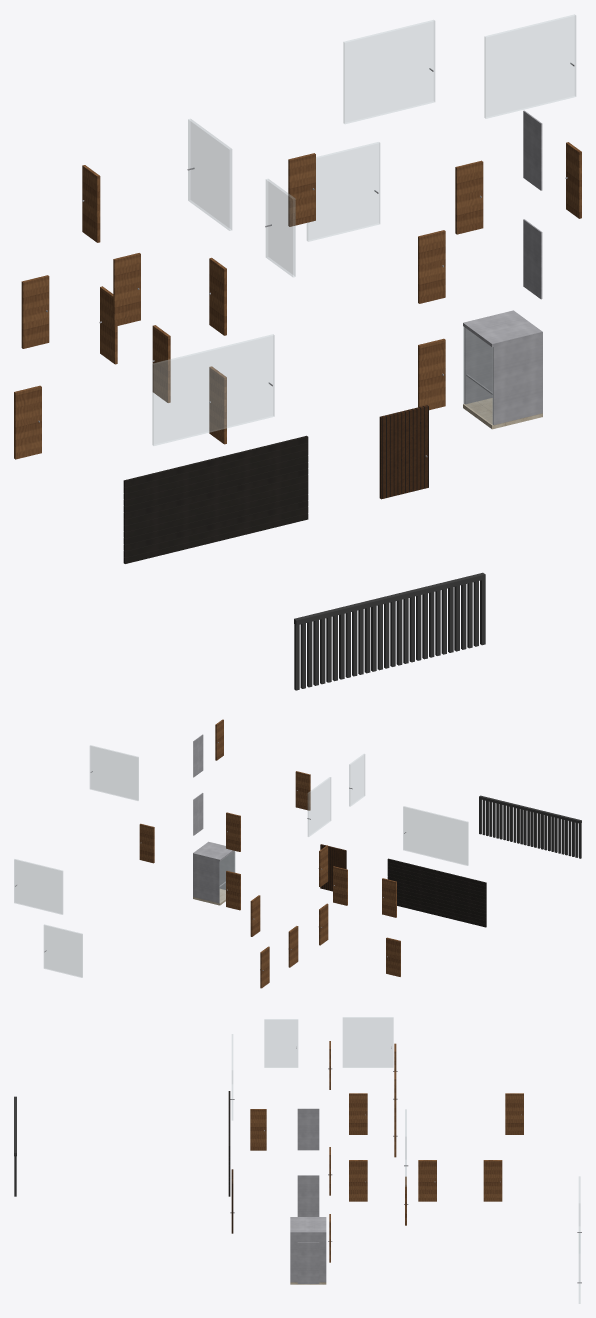
Rendered from LuxuryVilla_Doors.glb.
3 renders of one model, top to bottom at view 1: azimuth 30°, elevation 25°; view 2: azimuth 150°, elevation 25°; view 3: azimuth 270°, elevation 25°, orthographic. The views are drawn at different scales.
Parts seen in each view (by area): view 1: GarageDoor, FrontGate, Door_FrontBalcony, Elevator_Cab, Door_RearBalcony, Door_SkyTerrace, Door_Terrace, Door_Entrance, Door_GymTerrace, Door_MediaTerrace, Door_BedroomB, Door_Wardrobe (+11 smaller); view 2: GarageDoor, FrontGate, Door_FrontBalcony, Door_SkyTerrace, Door_RearBalcony, Elevator_Cab, Door_Terrace, Door_GymTerrace, Door_MediaTerrace, Door_Media, Door_BedroomB, Door_Entrance (+10 smaller); view 3: Door_GymTerrace, Door_MediaTerrace, Elevator_Cab, Door_GuestBedroom, Door_BedroomA, Door_GarageHall, Door_GuestBathroom, Door_Master, Door_PowderRoom, Elevator_Door_F2_L, Elevator_Door_F0_L, Elevator_Door_F1_L (+3 smaller).
Boxes of the visible parts, <box> form: GarageDoor: <box>123,435,308,563</box>; FrontGate: <box>294,572,485,690</box>; Door_FrontBalcony: <box>152,334,274,445</box>; Elevator_Cab: <box>463,310,542,429</box>; Door_RearBalcony: <box>343,20,434,123</box>; Door_SkyTerrace: <box>484,14,575,118</box>; Door_Terrace: <box>307,142,379,241</box>; Door_Entrance: <box>379,405,428,499</box>; Door_GymTerrace: <box>187,119,231,230</box>; Door_MediaTerrace: <box>265,179,295,277</box>; Door_BedroomB: <box>455,160,483,234</box>; Door_Wardrobe: <box>21,275,49,348</box>; GarageDoor: <box>387,858,486,927</box>; FrontGate: <box>479,795,581,858</box>; Door_FrontBalcony: <box>403,806,468,865</box>; Door_SkyTerrace: <box>90,745,138,800</box>; Door_RearBalcony: <box>14,859,62,914</box>; Elevator_Cab: <box>193,841,235,905</box>; Door_Terrace: <box>44,924,82,977</box>; Door_GymTerrace: <box>307,777,330,836</box>; Door_MediaTerrace: <box>349,754,364,806</box>; Door_Media: <box>295,771,310,810</box>; Door_BedroomB: <box>139,823,154,863</box>; Door_Entrance: <box>320,844,346,891</box>; Door_GymTerrace: <box>343,1017,393,1067</box>; Door_MediaTerrace: <box>264,1019,297,1067</box>; Elevator_Cab: <box>290,1217,326,1284</box>; Door_GuestBedroom: <box>483,1160,502,1201</box>; Door_BedroomA: <box>505,1093,523,1134</box>; Door_GarageHall: <box>349,1160,367,1201</box>; Door_GuestBathroom: <box>418,1160,436,1201</box>; Door_Master: <box>349,1093,367,1134</box>; Door_PowderRoom: <box>250,1109,266,1150</box>; Elevator_Door_F2_L: <box>297,1108,308,1150</box>; Elevator_Door_F0_L: <box>297,1242,308,1283</box>; Elevator_Door_F1_L: <box>297,1175,308,1216</box>.
Size of the model in its own units: 19.58 by 9.47 by 26.17.
8 materials, 5 textured.
